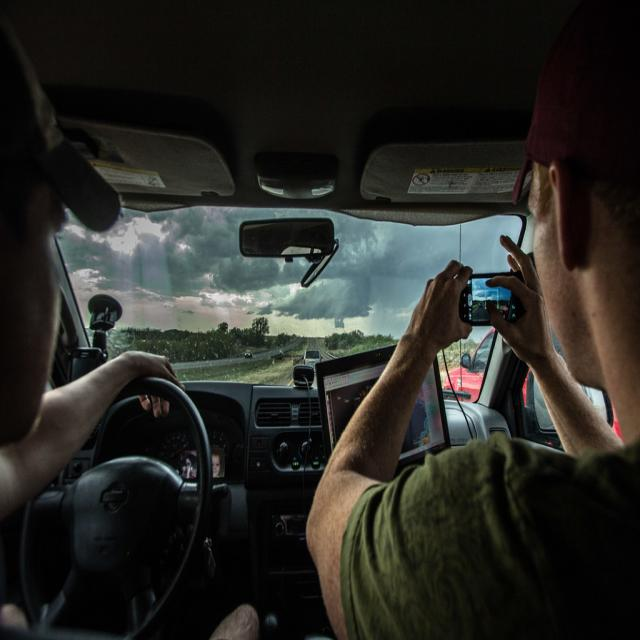car: (243, 348, 251, 359)
